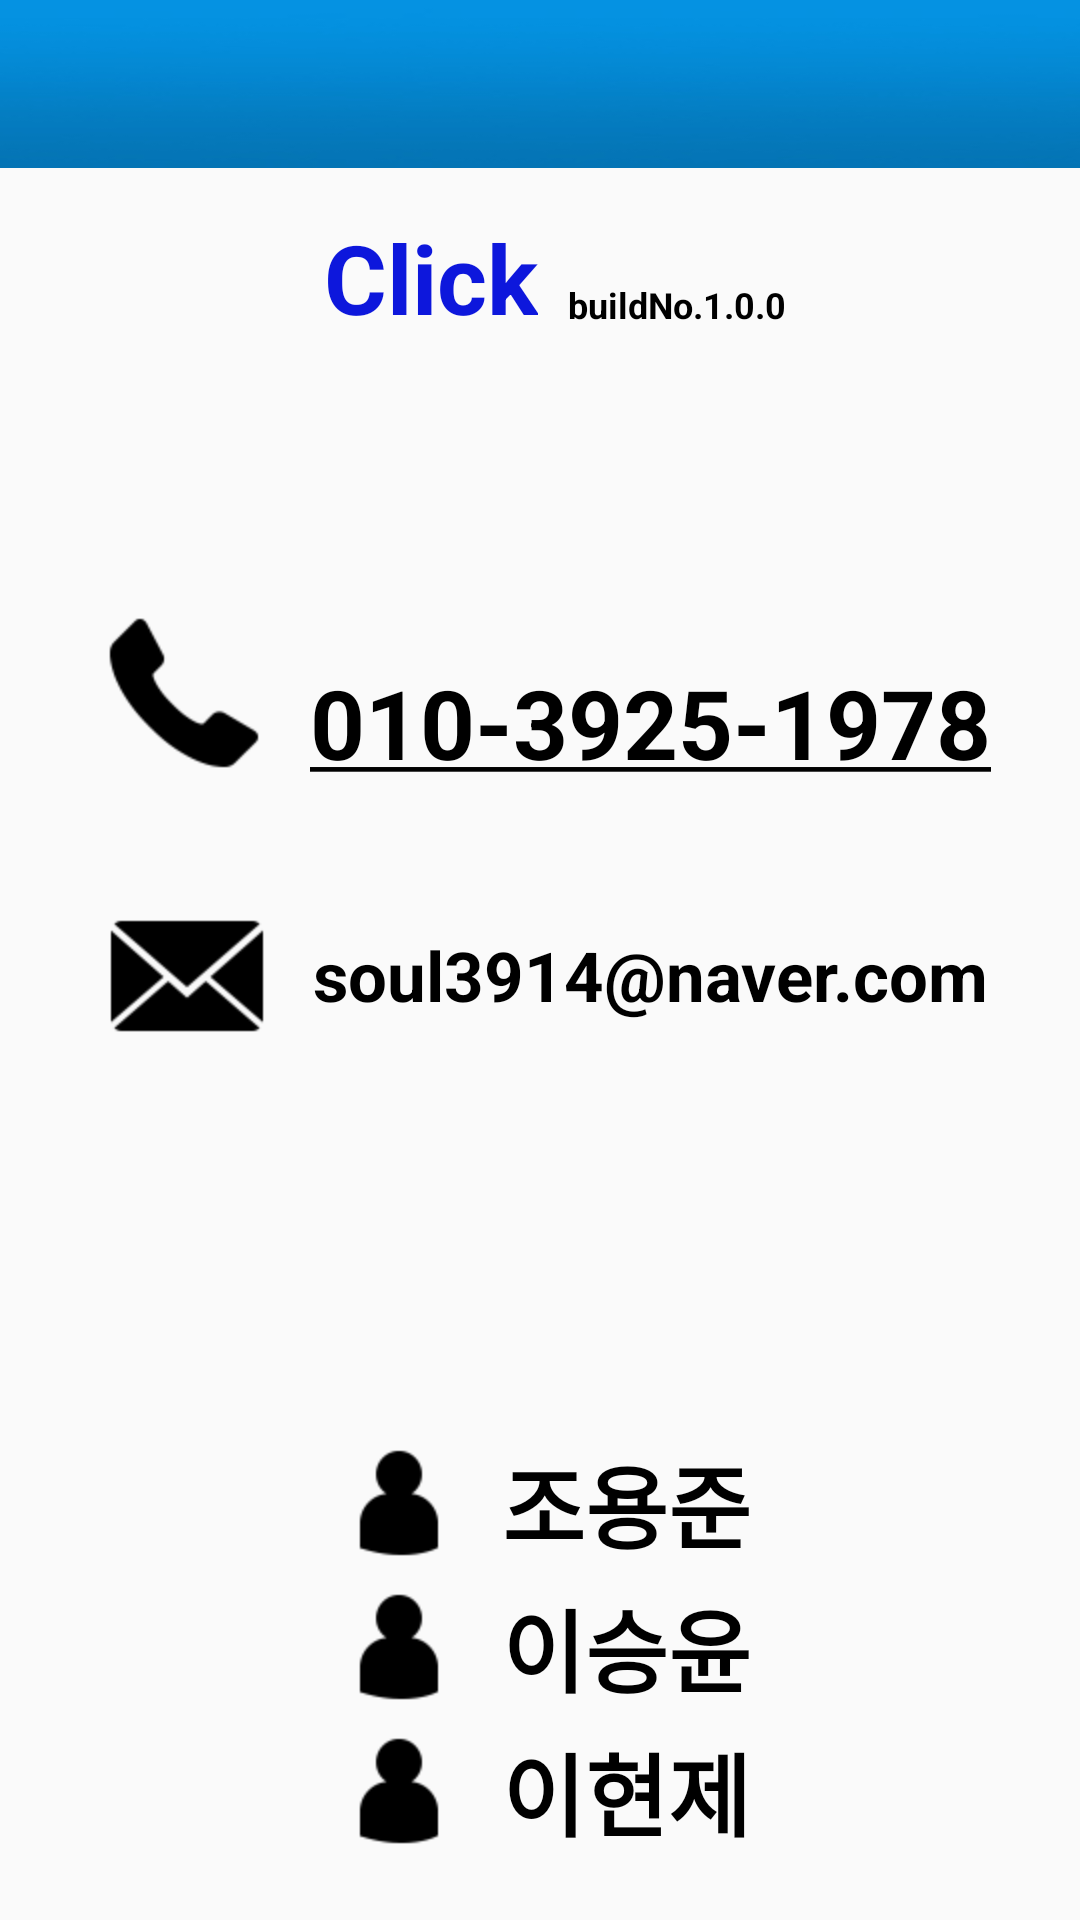

Screen size 1080×1920. Icon name, then its center in pixels as [x,y]:
email: [187,976]
person: [399,1503], [399,1647], [399,1791]
tell: [184,693]
